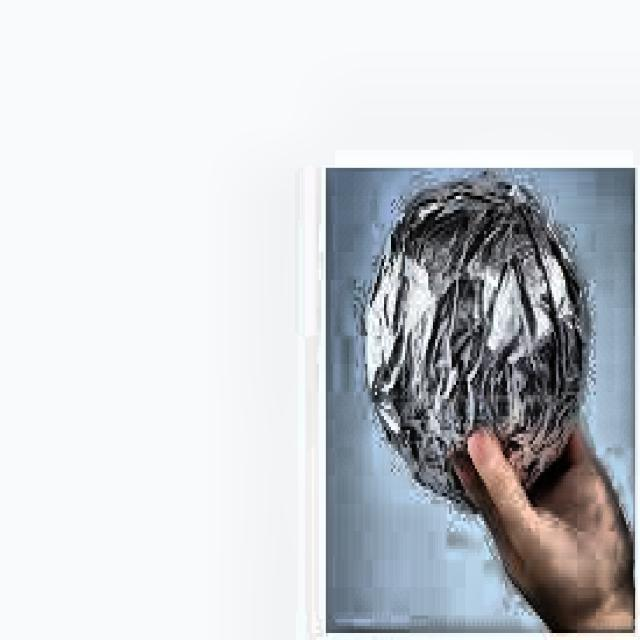Foil: (369, 160, 596, 524)
